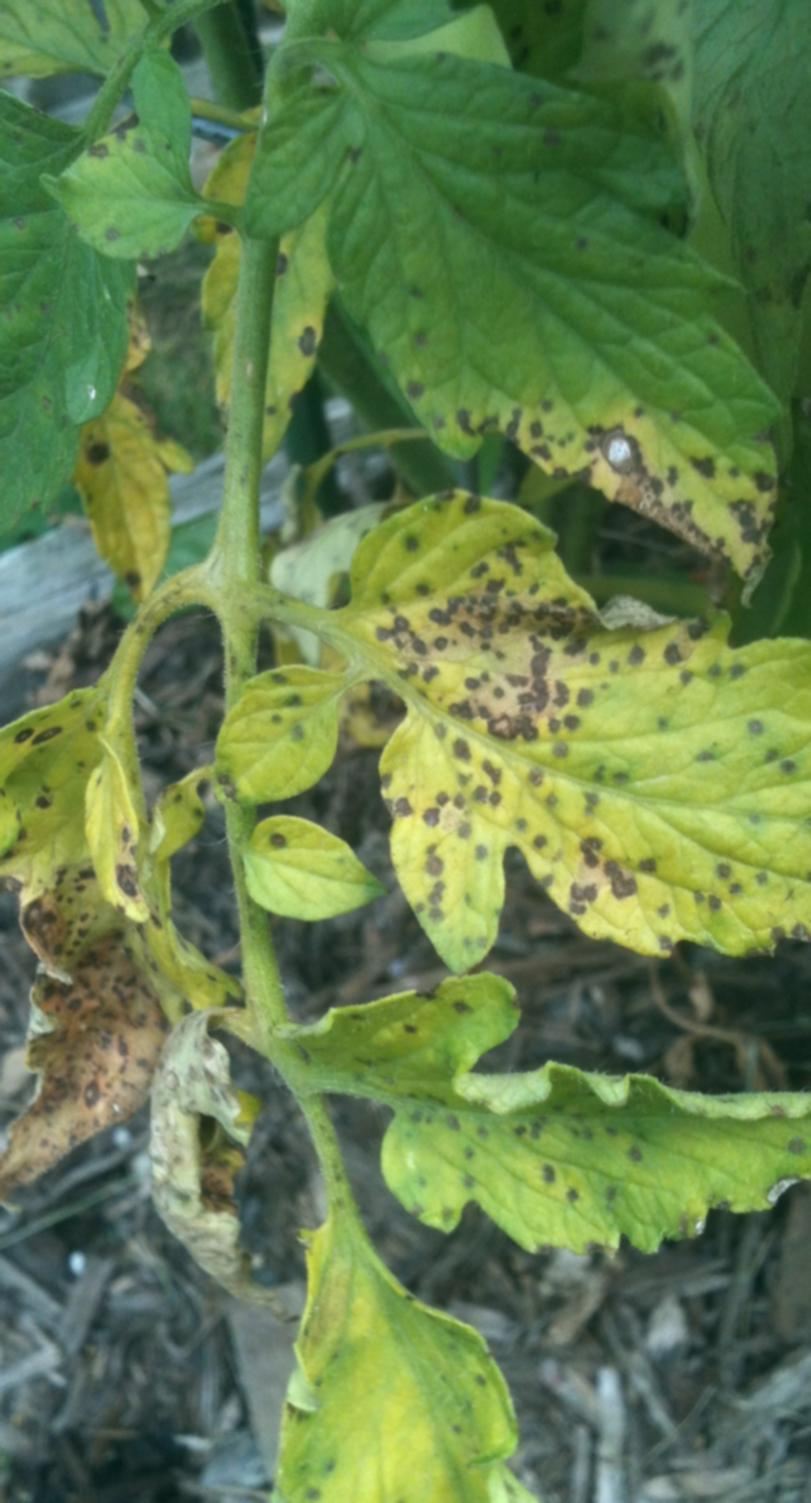Tomato Septoria leaf spot: (209, 0, 797, 545), (322, 498, 811, 994), (245, 936, 811, 1256), (0, 636, 169, 1269), (242, 1212, 558, 1503)
